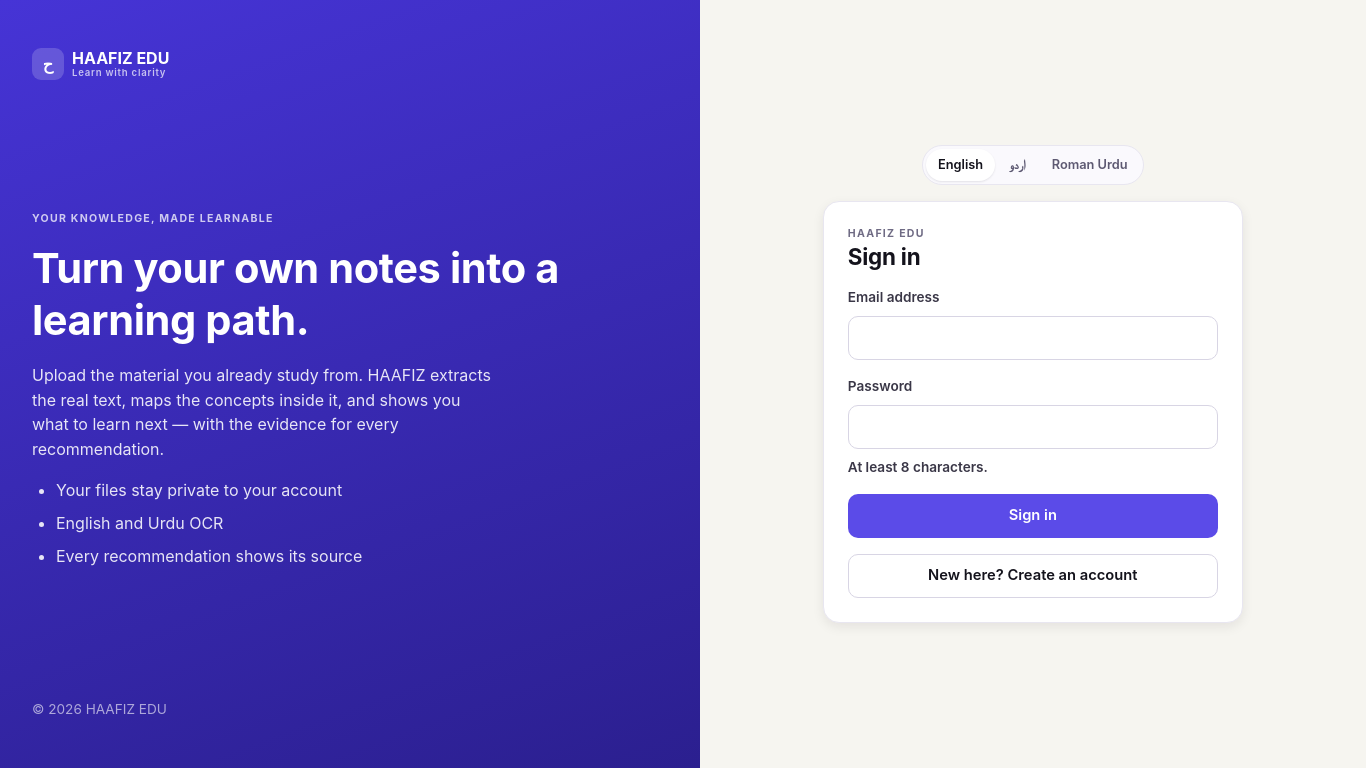
AuthPage — sign in › rejects a malformed email before any request is made
Type "not-an-email" into the field labelled "Email address" at point(1033, 338), box [848, 316, 1218, 360]
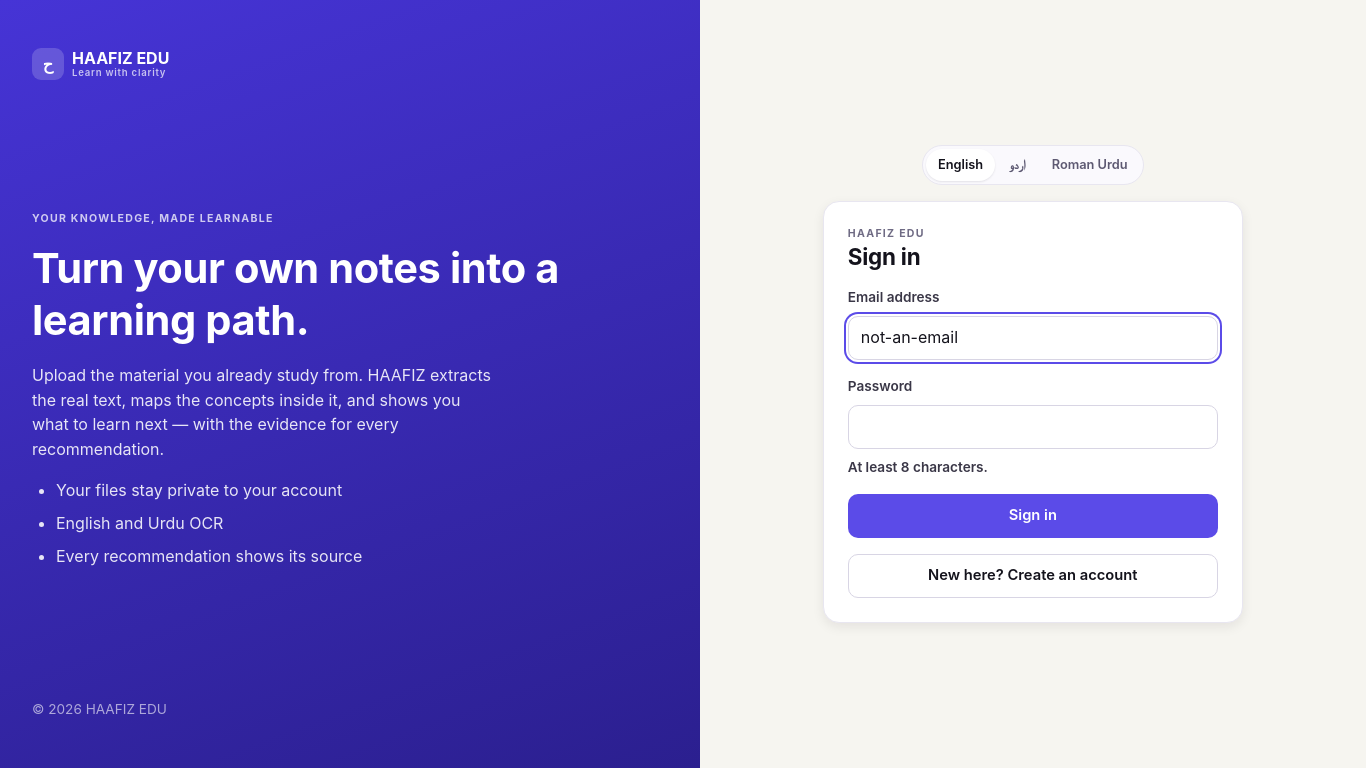
Type "password123" into the password field labelled "Password At least 8 characters." at point(1033, 427), box [848, 405, 1218, 449]
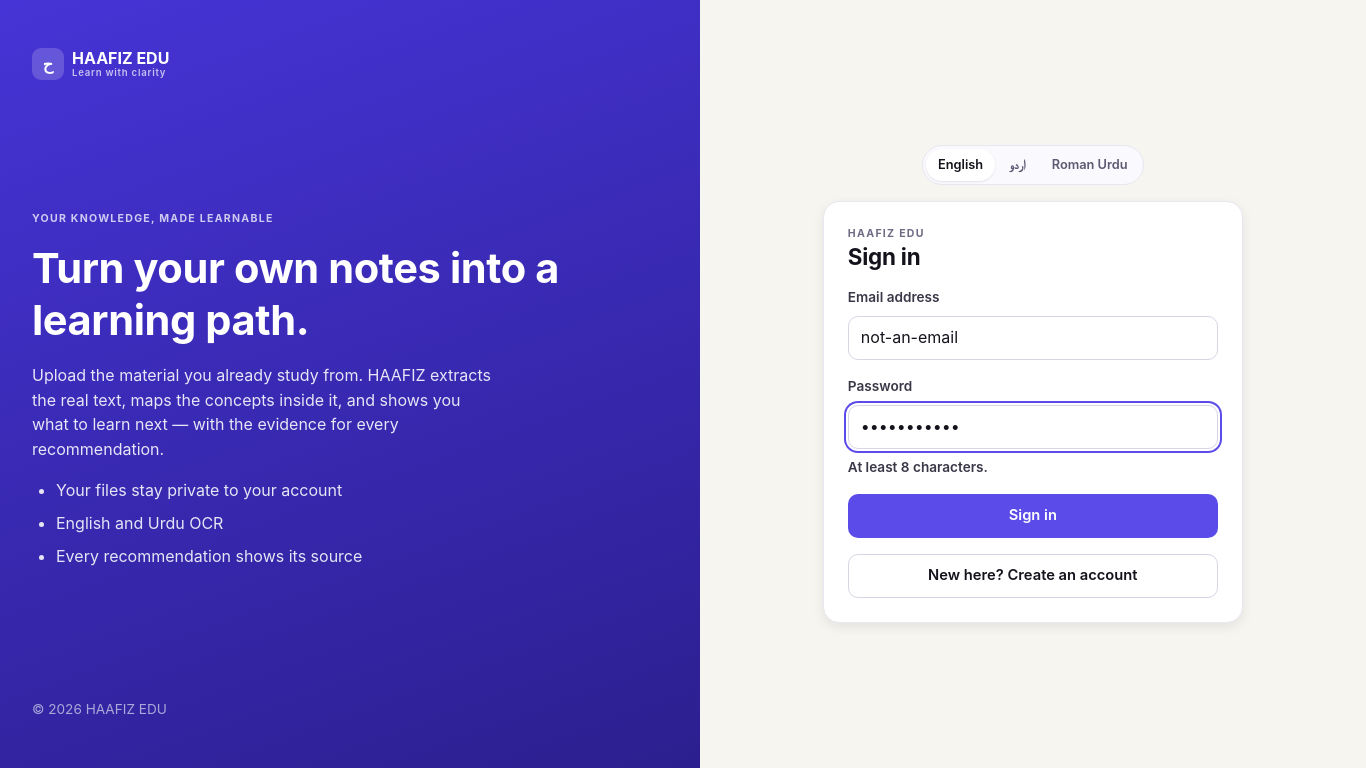
Click the button "Sign in" at point(1033, 516), box [848, 494, 1218, 538]
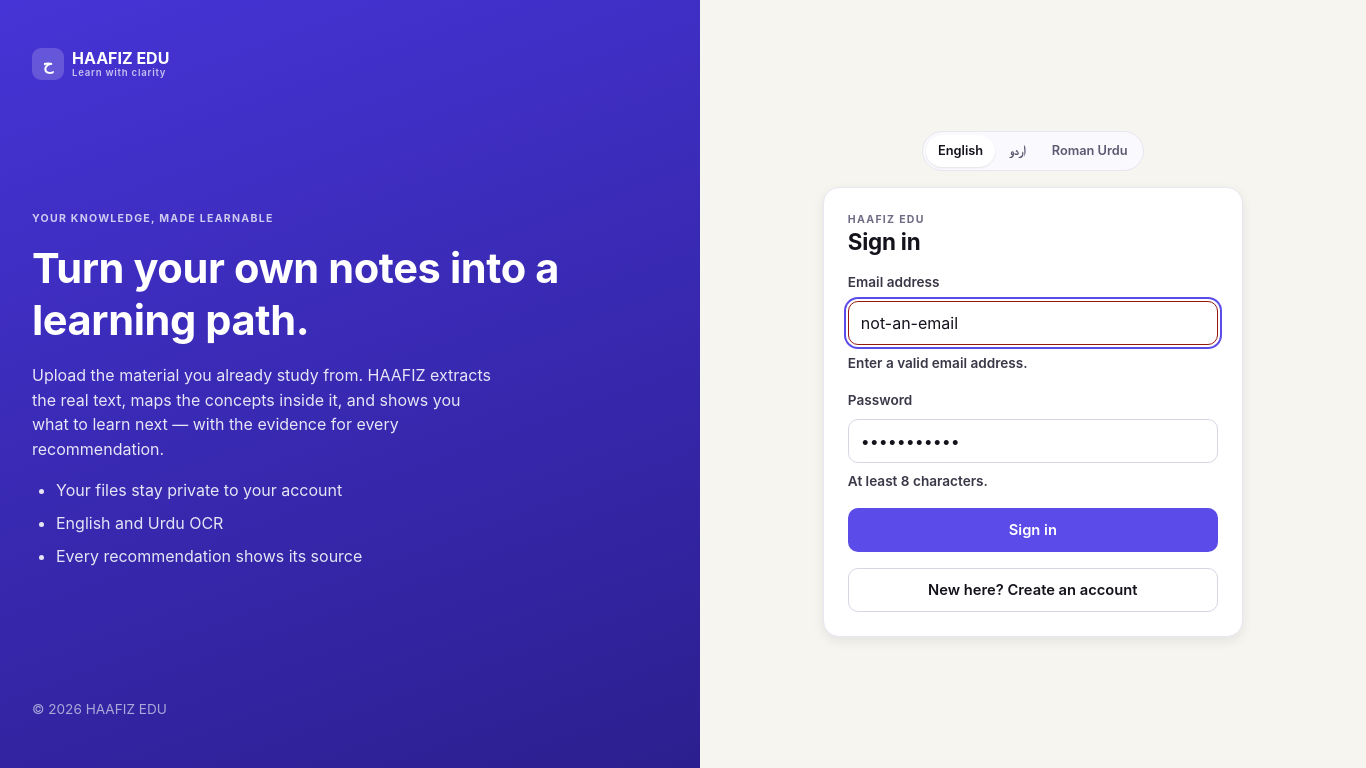
Now the text "Enter a valid email address." is shown, box [848, 355, 1028, 371]
